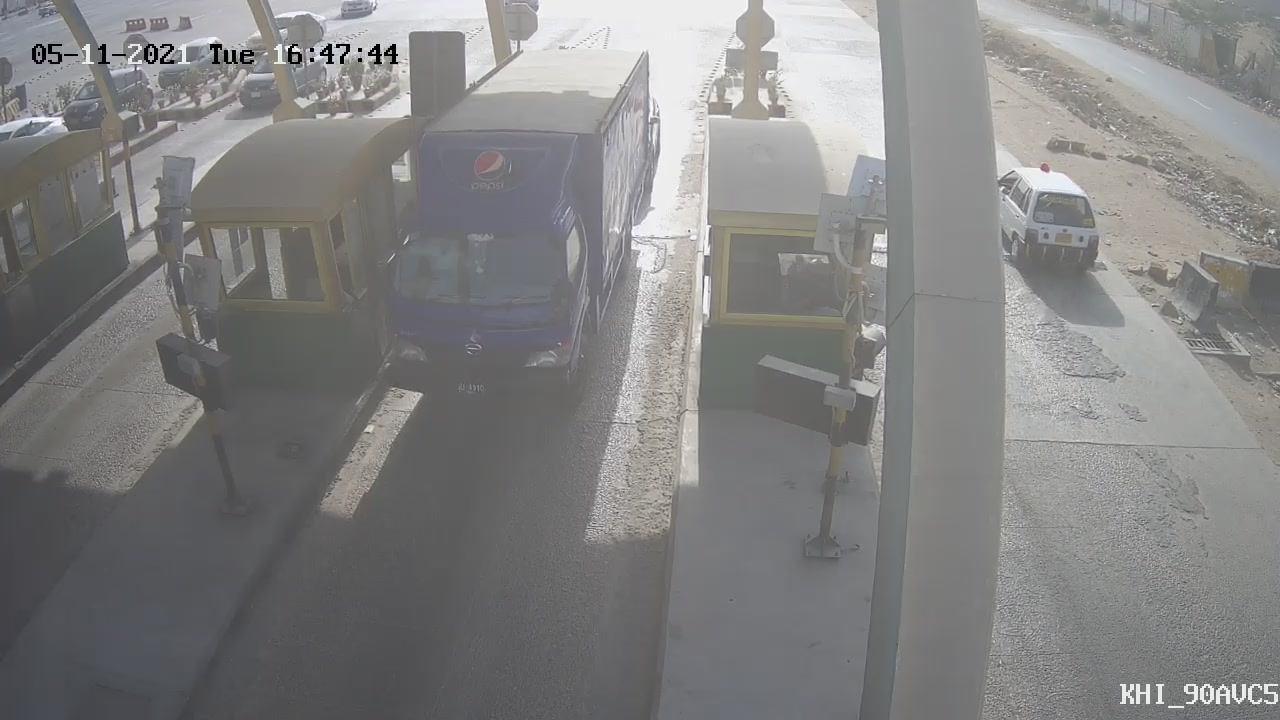F5: (326, 29, 699, 425)
